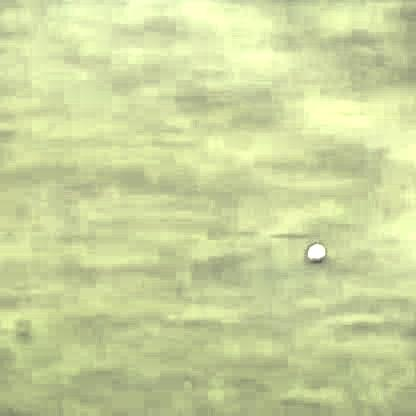golfball: (303, 241, 325, 260)
